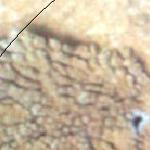alive: (1, 2, 146, 148)
